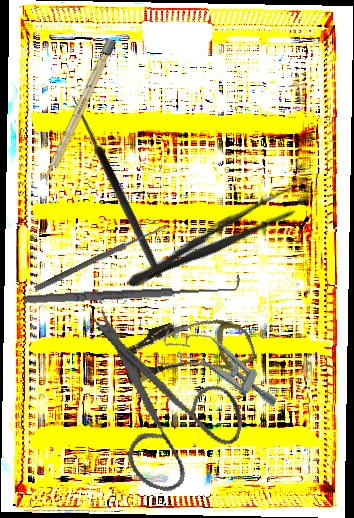Cannula: (115, 300, 258, 400)
Dressing Forceps: (120, 178, 311, 299)
Hook Surgical: (58, 94, 165, 283), (23, 274, 241, 307)
Iris Scissors: (47, 305, 263, 507)
Scalpel Handle: (40, 37, 117, 187)
Speculum: (150, 317, 290, 417)
Surgical Spoon: (33, 222, 169, 293)
